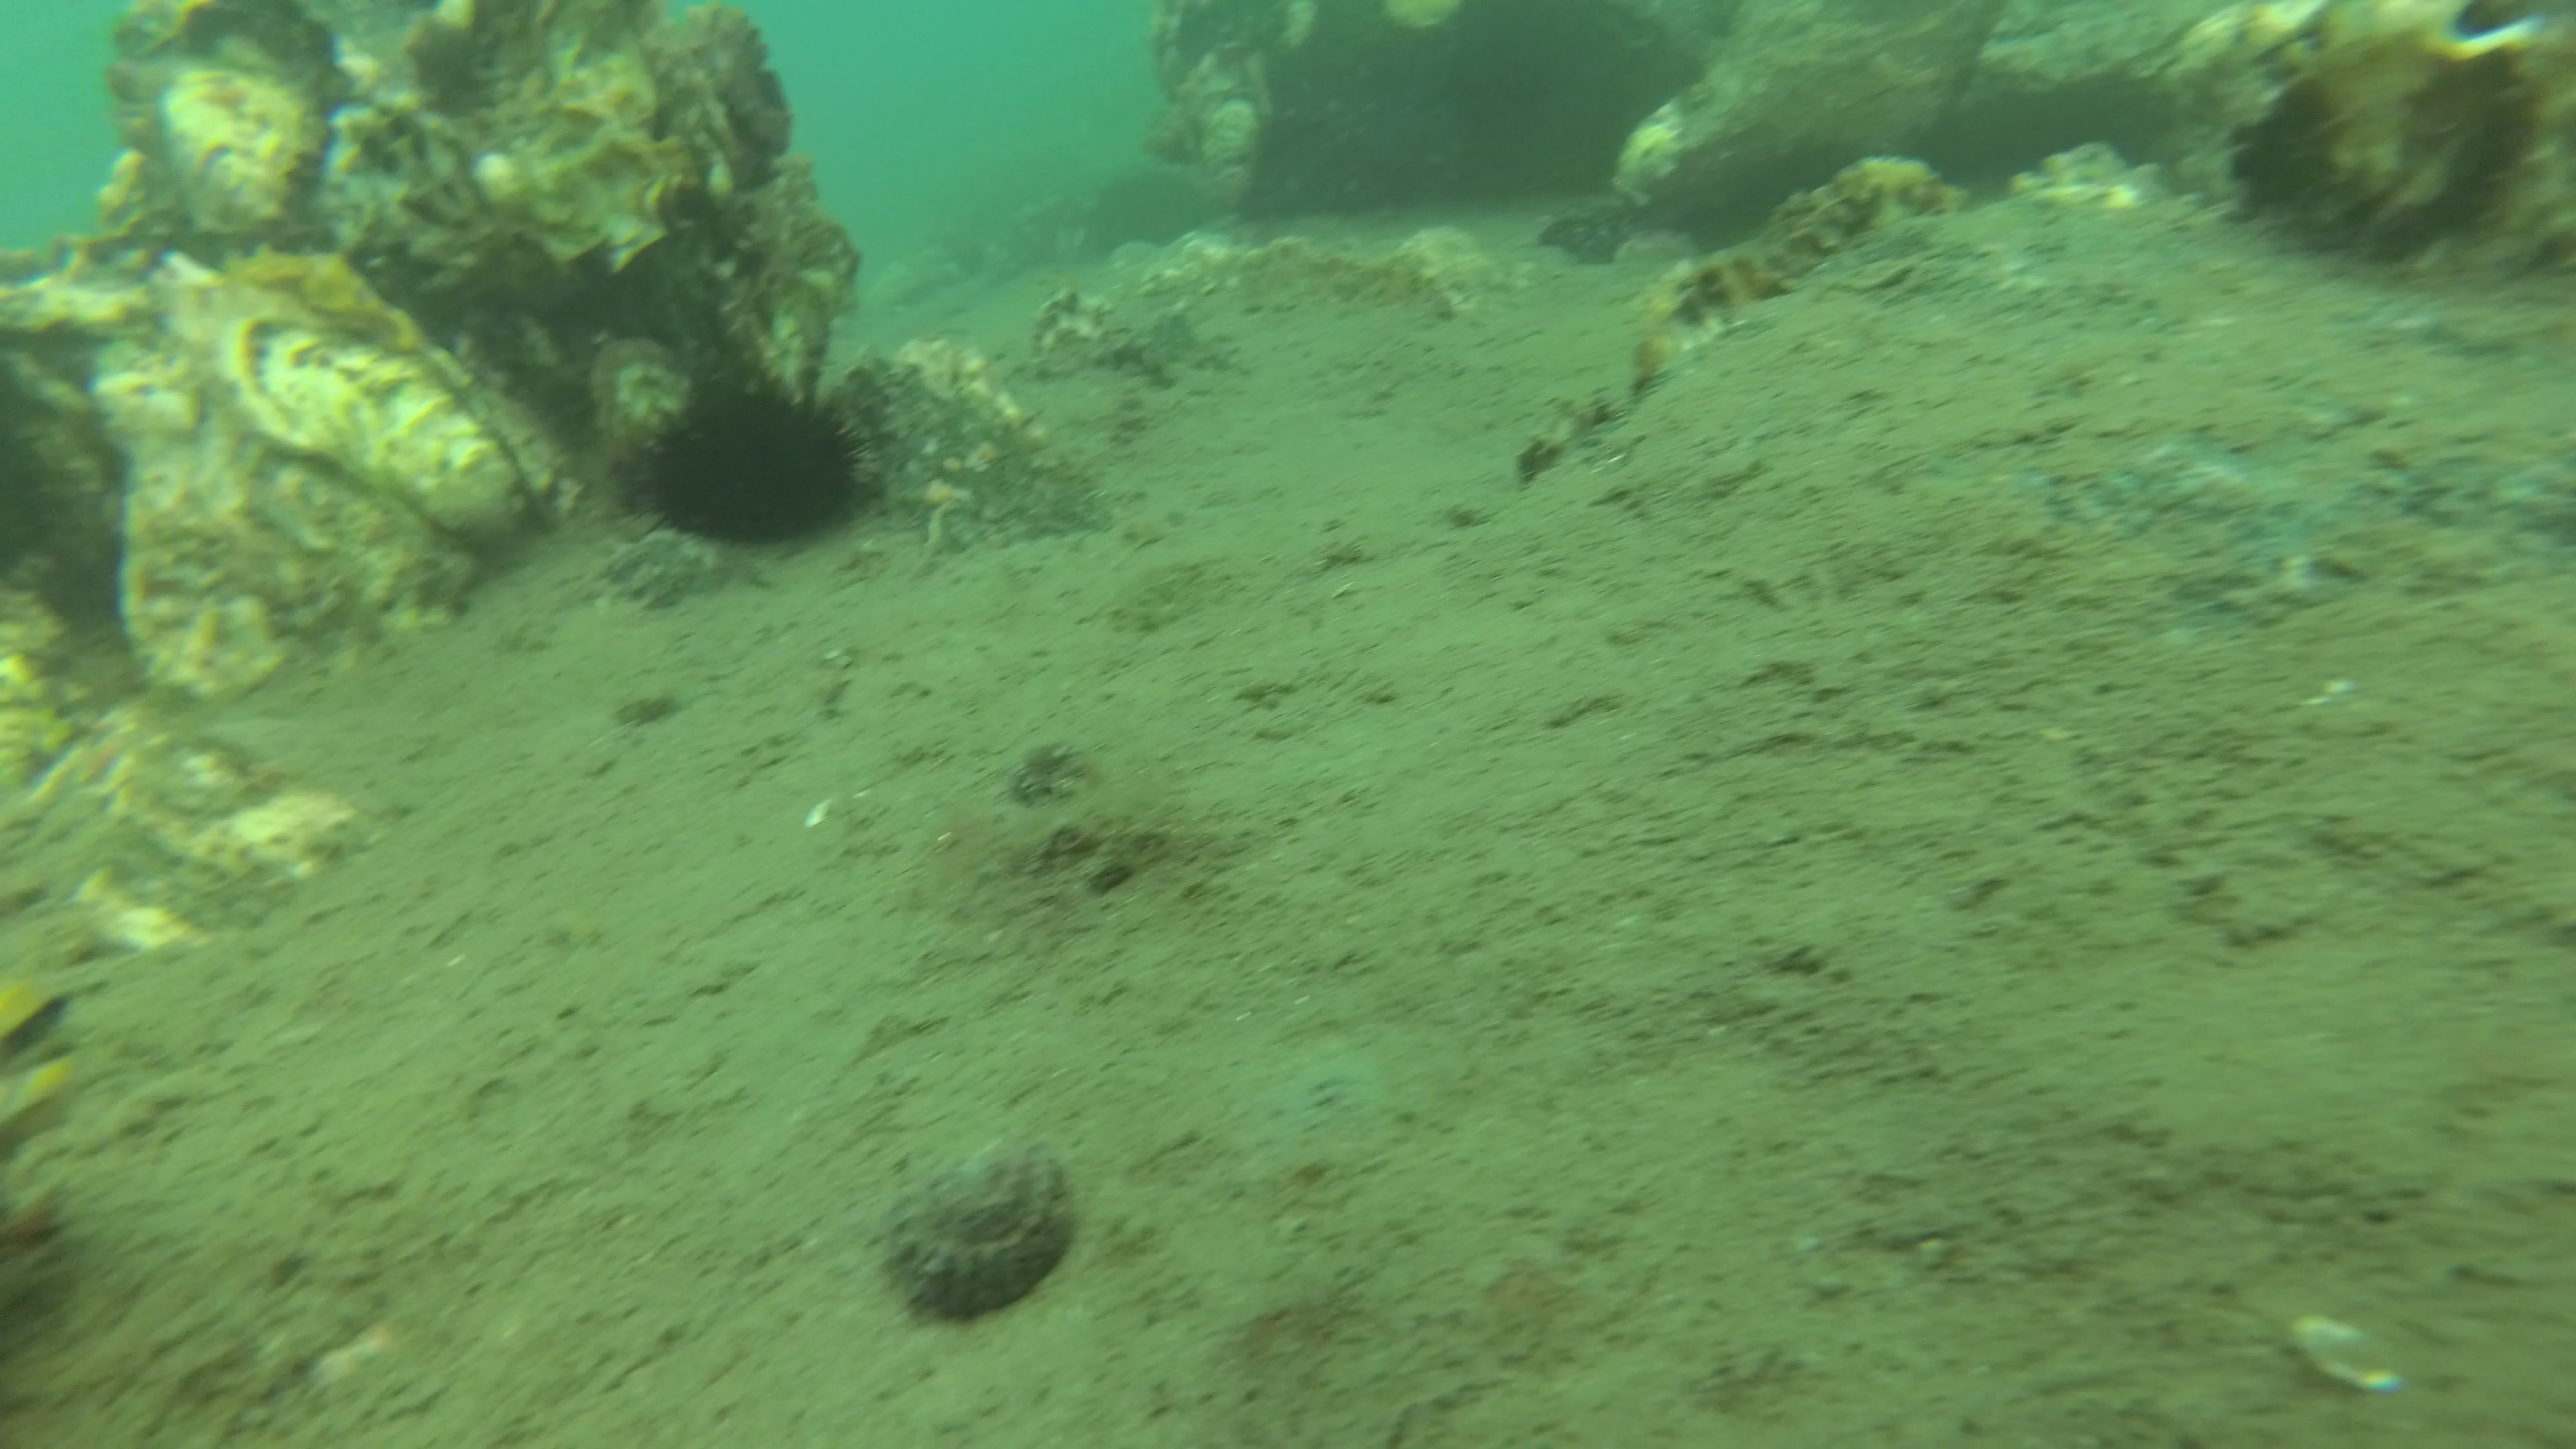echinus: (616, 366, 881, 552), (0, 409, 74, 584)
